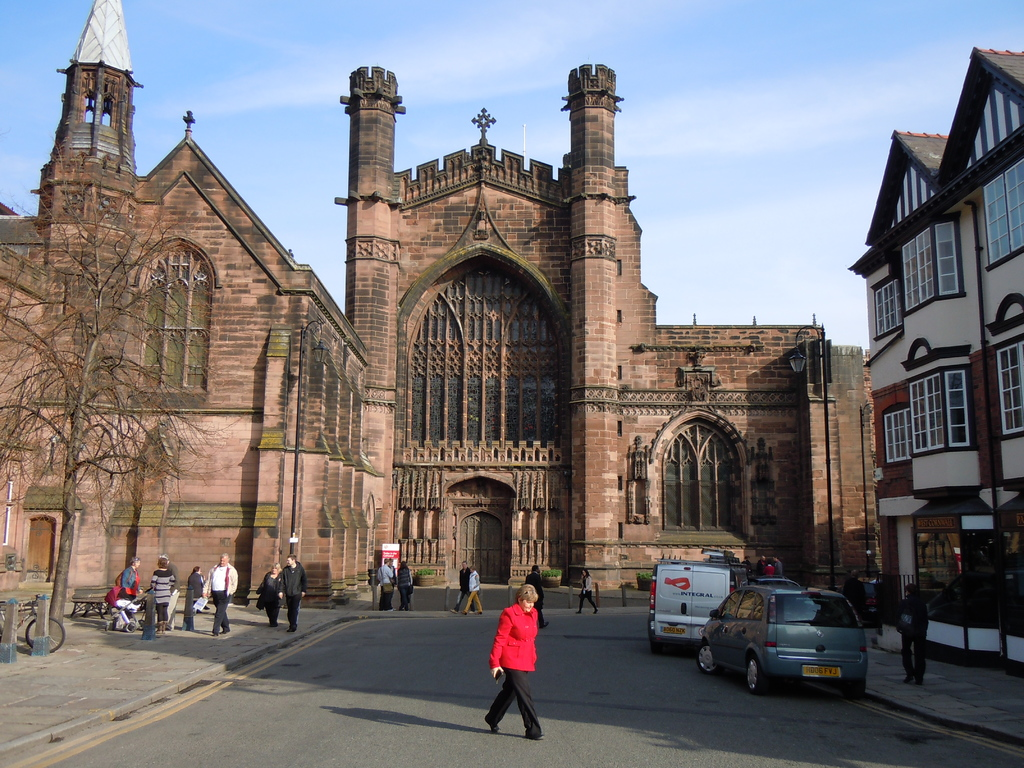Car: (695, 578, 869, 689)
